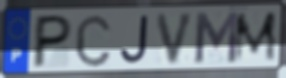C: (73, 12, 113, 69)
J: (118, 14, 151, 66)
M: (232, 10, 279, 65), (193, 10, 240, 65)
P: (30, 14, 75, 71)
V: (154, 10, 197, 67)
